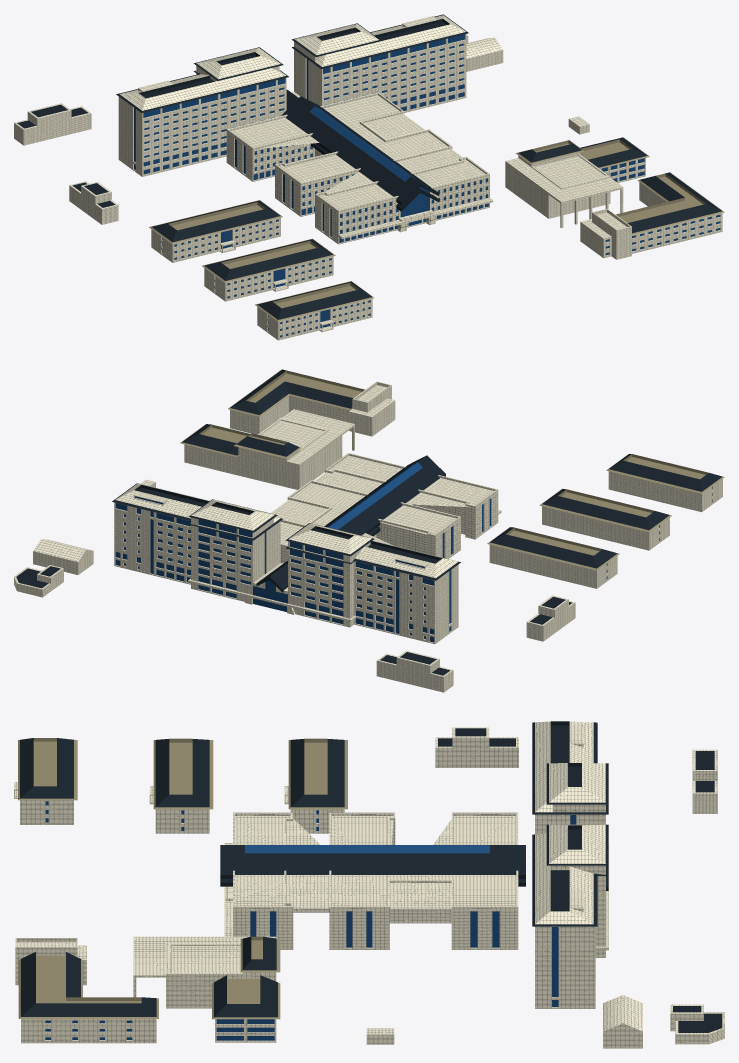
Rendered from yiyuan.FBX.
The picture shows the model from 3 angles, top to bottom: view 1: azimuth 30°, elevation 25°; view 2: azimuth 150°, elevation 25°; view 3: azimuth 270°, elevation 25°; orthographic projection. The views are drawn at different scales.
Parts seen in each view (by area): view 1: 图形004, Line015, Line012, Line024, Plane005, 图形006, 图形005, 对象002, Line016, Line013, Rectangle004, Rectangle005 (+21 smaller); view 2: 图形004, Line015, Line012, Line024, Line016, Line013, 图形006, Plane005, 图形005, Rectangle005, Rectangle004, Rectangle006 (+22 smaller); view 3: 图形004, Plane005, Line024, Line012, 图形005, 图形006, 对象015, Line019, Line018, 对象019, 对象020, Circle001 (+27 smaller).
Part boxes in pixels (x1,y1,x2,y2): 图形004: [226, 92, 489, 244]; Line015: [118, 66, 286, 176]; Line012: [294, 34, 466, 112]; Line024: [505, 152, 645, 227]; Plane005: [281, 96, 439, 205]; 图形006: [119, 48, 285, 110]; 图形005: [294, 15, 465, 66]; 对象002: [235, 139, 488, 242]; Line016: [134, 78, 285, 174]; Line013: [306, 34, 464, 110]; Rectangle004: [204, 256, 333, 301]; Rectangle005: [151, 217, 280, 262]; 图形004: [270, 453, 498, 563]; Line015: [288, 541, 458, 644]; Line012: [114, 502, 280, 601]; Line024: [184, 409, 354, 489]; Line016: [289, 541, 450, 642]; Line013: [115, 496, 265, 598]; 图形006: [288, 523, 457, 578]; Plane005: [324, 455, 445, 535]; 图形005: [115, 483, 279, 530]; Rectangle005: [489, 544, 617, 588]; Rectangle004: [542, 506, 669, 550]; Rectangle006: [608, 471, 722, 512]; 图形004: [233, 812, 518, 949]; Plane005: [220, 845, 525, 878]; Line024: [133, 936, 276, 1042]; Line012: [535, 865, 605, 1008]; 图形005: [535, 824, 605, 924]; 图形006: [535, 721, 605, 812]; 对象015: [21, 952, 156, 1016]; Line019: [21, 1019, 156, 1043]; Line018: [18, 955, 158, 1018]; 对象019: [155, 739, 209, 807]; 对象020: [290, 739, 344, 807]; Circle001: [435, 727, 518, 767].
Bounding box in the file's own units: 247 × 255 × 40.29.
